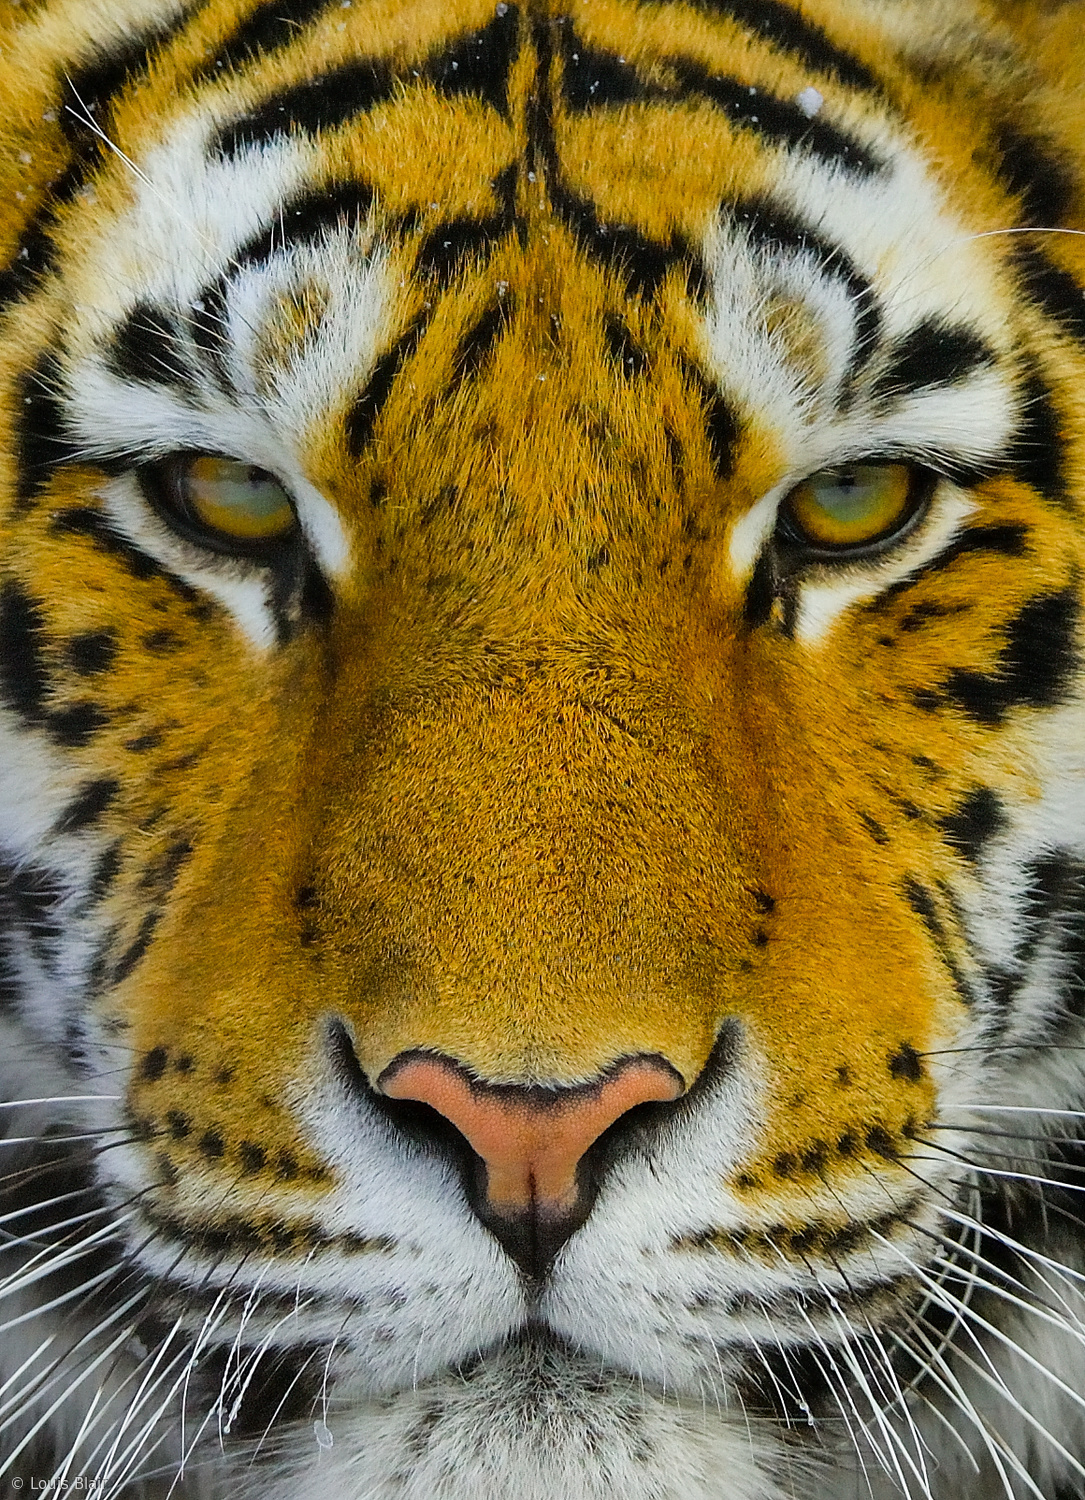tiger: (8, 23, 1082, 1462)
